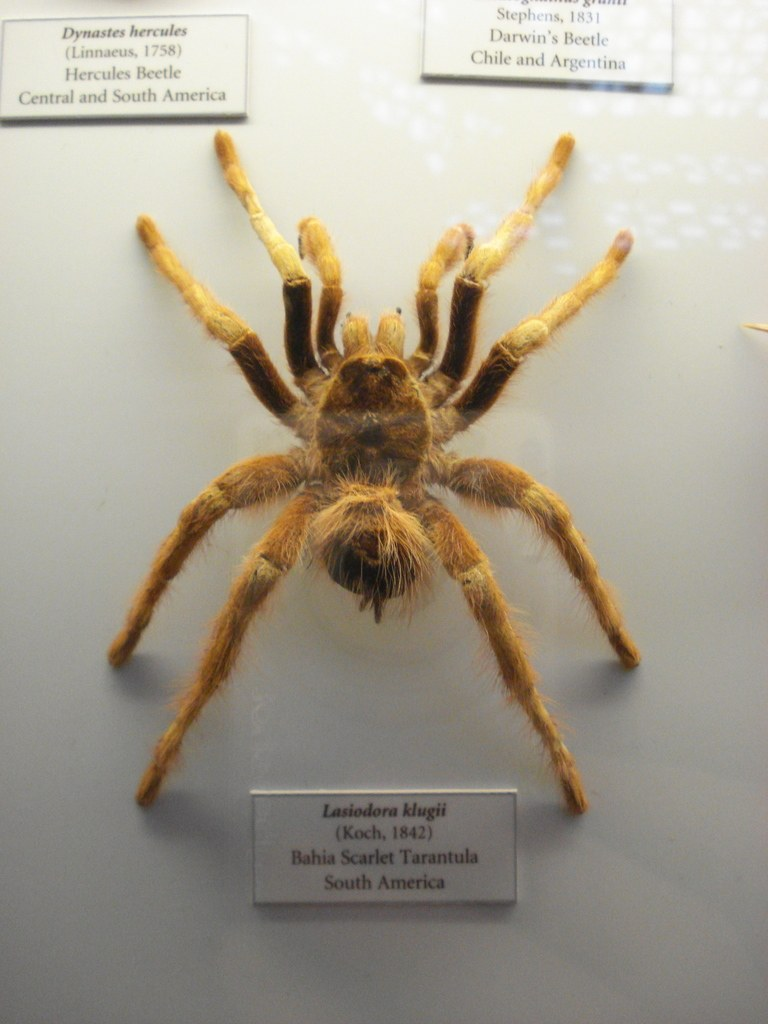insect: (108, 130, 646, 812), (106, 127, 640, 812)
